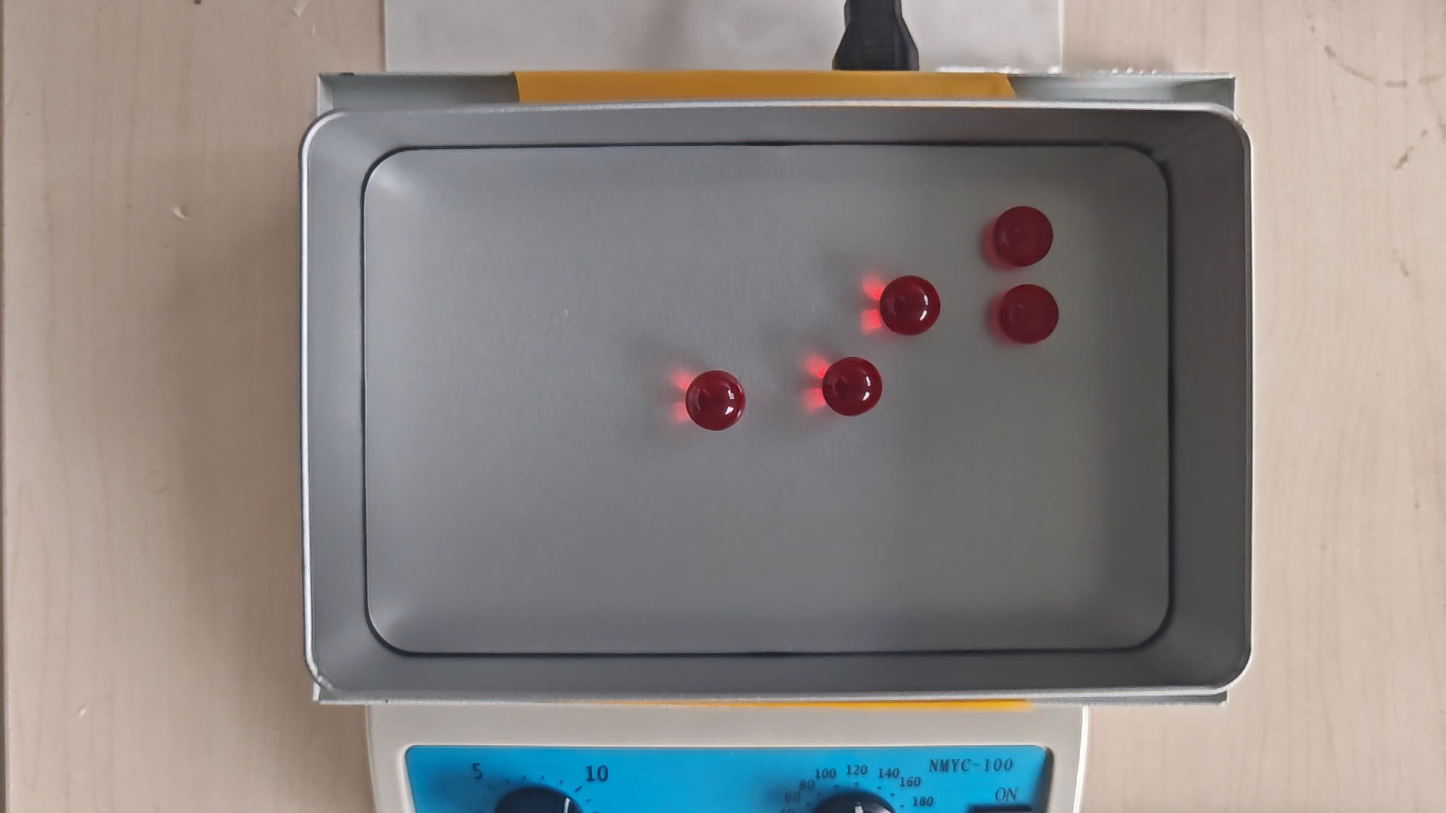ball: (992, 206, 1055, 268), (822, 356, 883, 419), (879, 275, 941, 336), (999, 285, 1059, 346), (687, 372, 746, 431)
container: (358, 140, 1174, 654)
